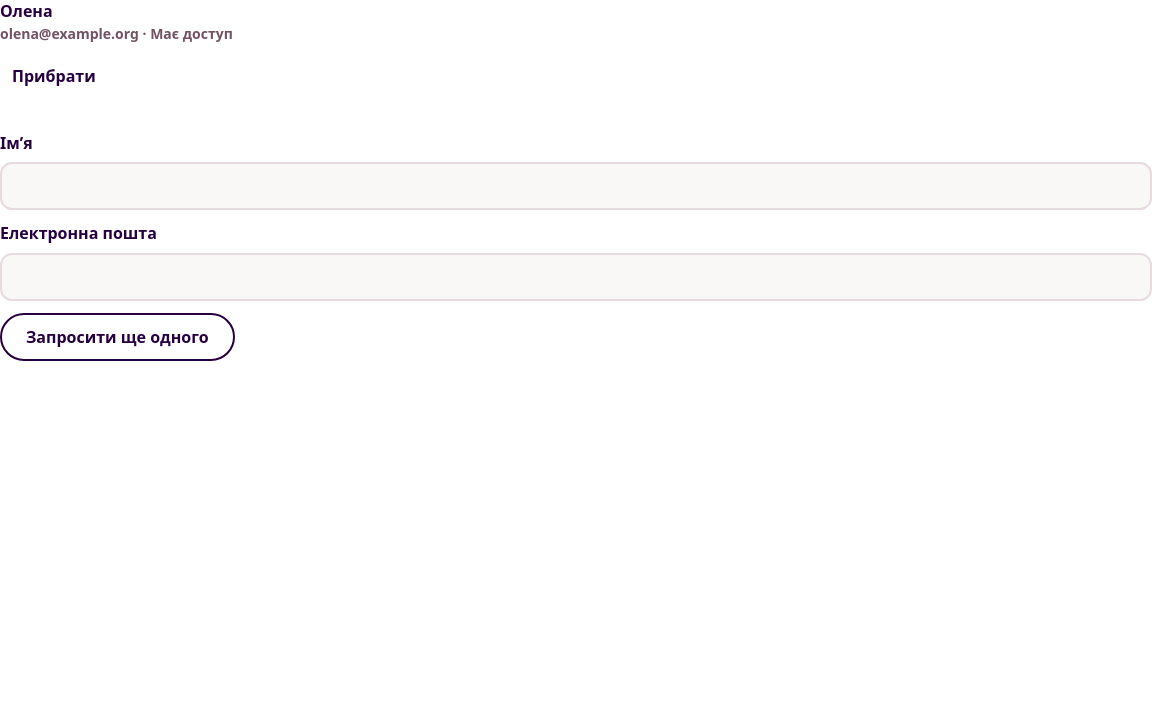
remove asks first › Escape and ✕ close the question too
Click the button "Прибрати". click: (54,76)
box: x1=0 y1=52 x2=108 y2=100
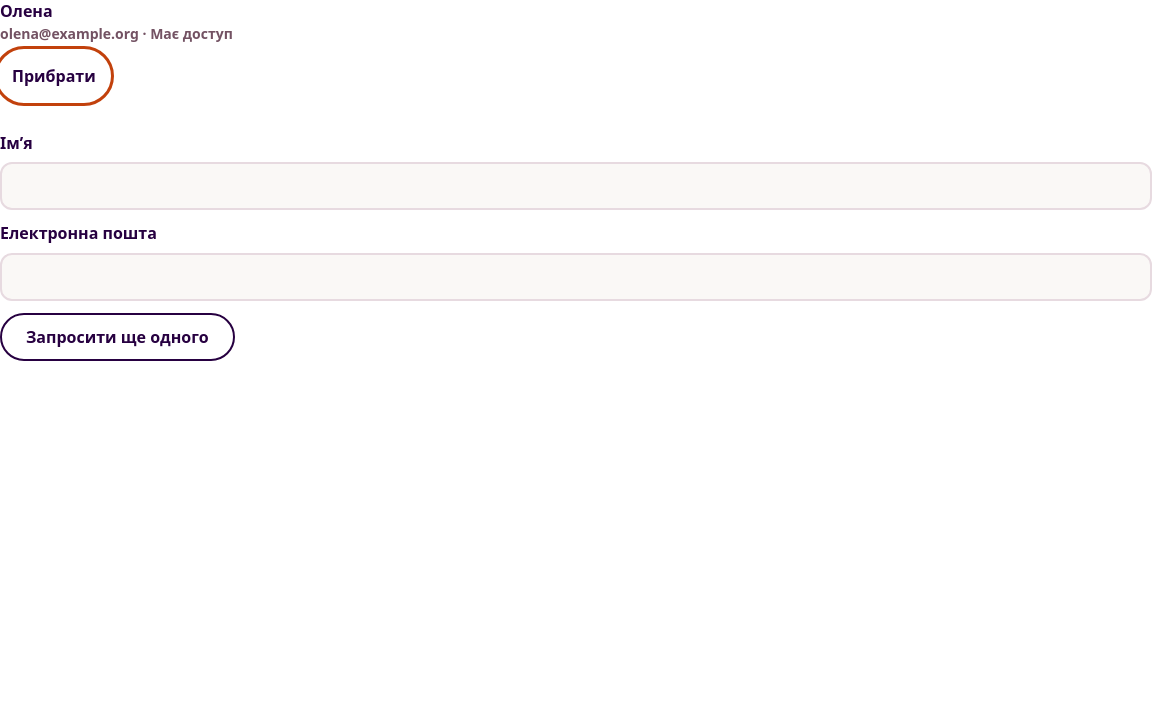
Click the button "Прибрати". click: (54,76)
box: x1=0 y1=52 x2=108 y2=100
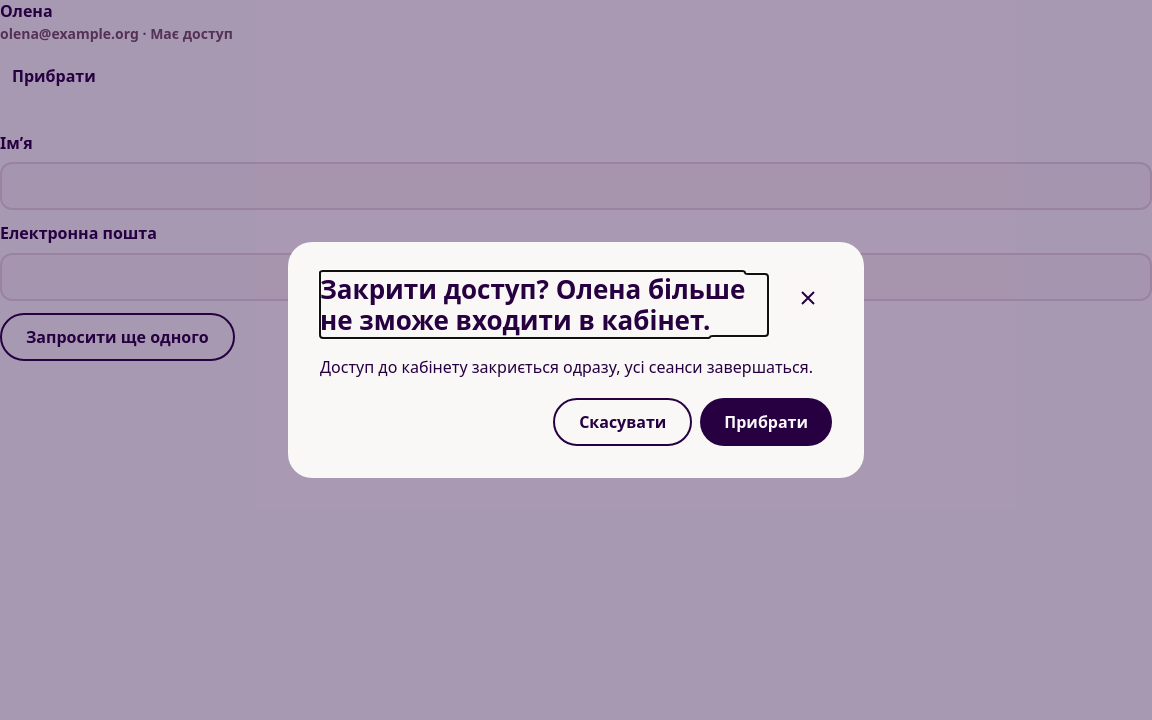
Click the button named "Закрити". click: (808,298)
box: x1=784 y1=274 x2=832 y2=322
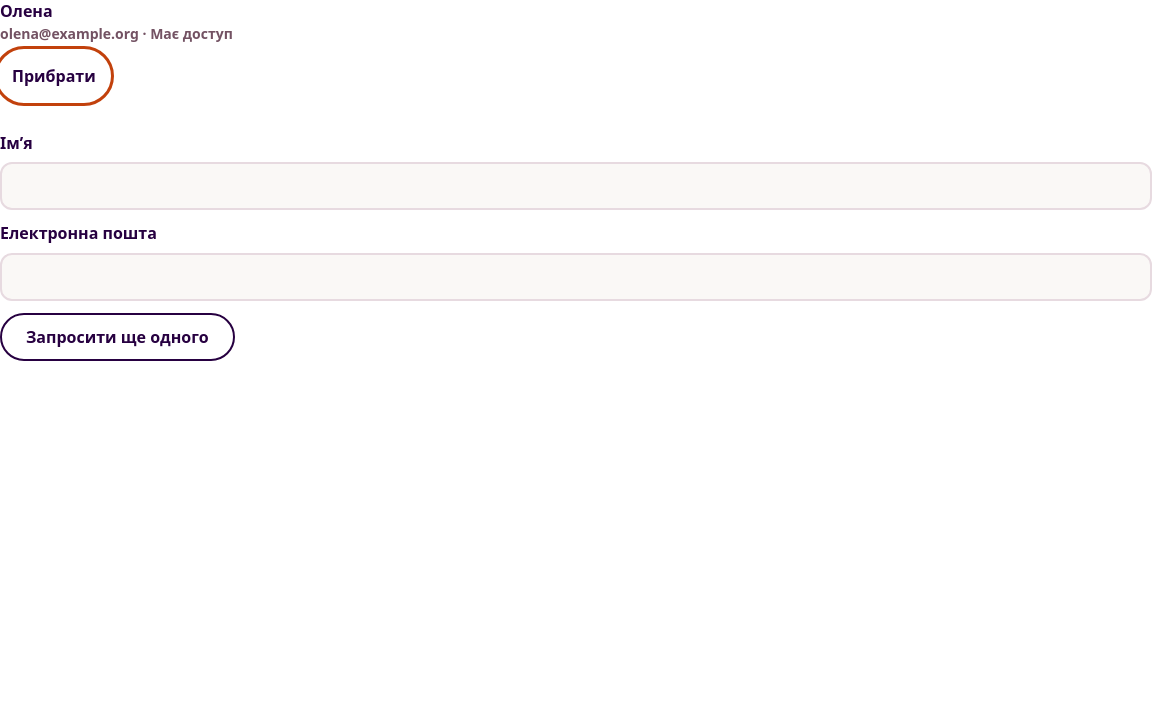
Check: the dialog is gone
